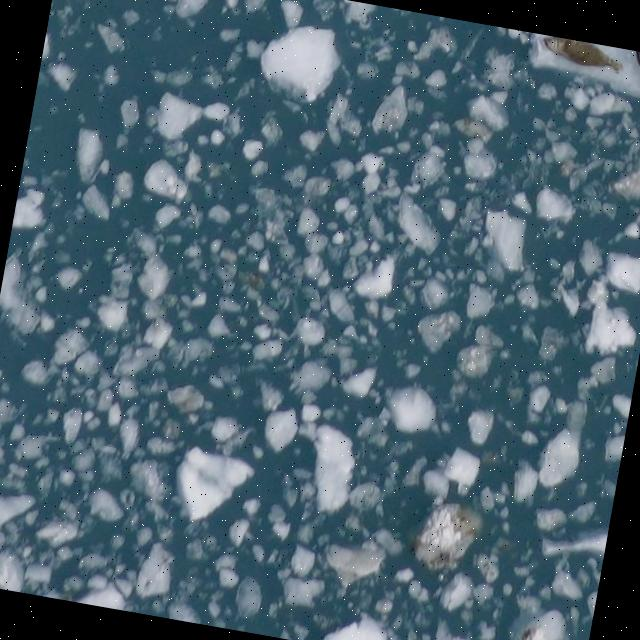seal: (537, 34, 625, 74), (633, 51, 640, 71)
